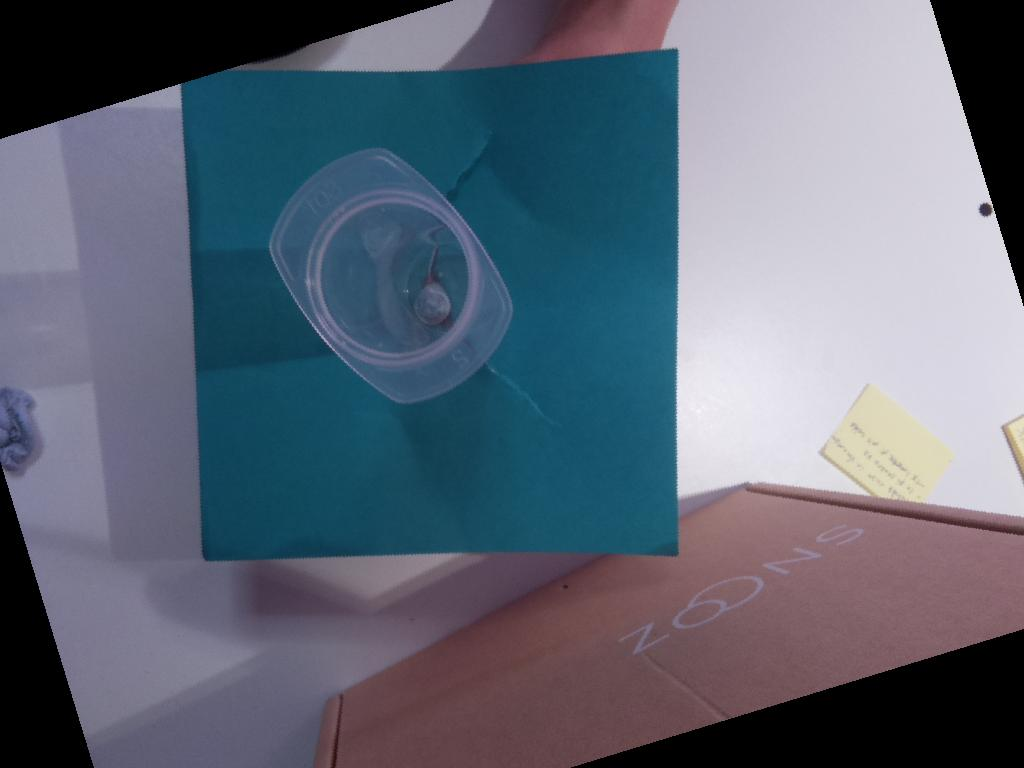clean: (268, 145, 513, 404)
